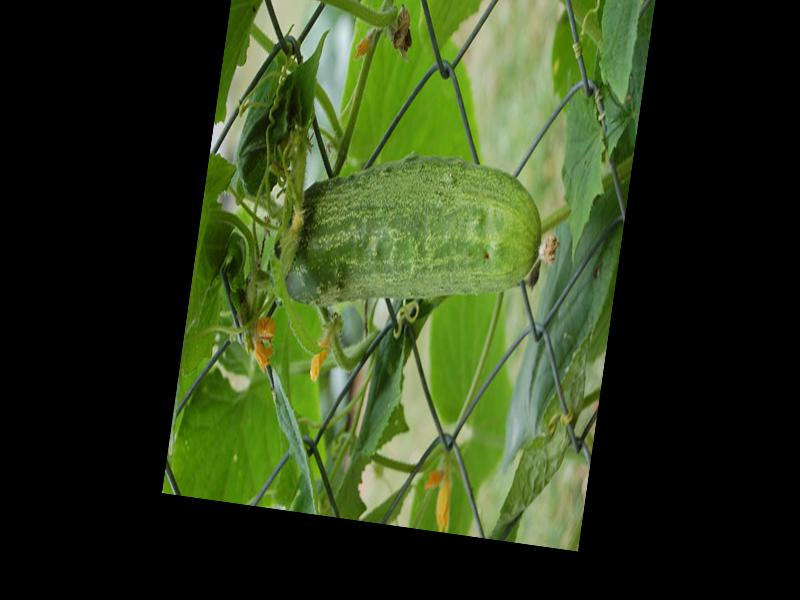Cucumber: (270, 139, 565, 333)
